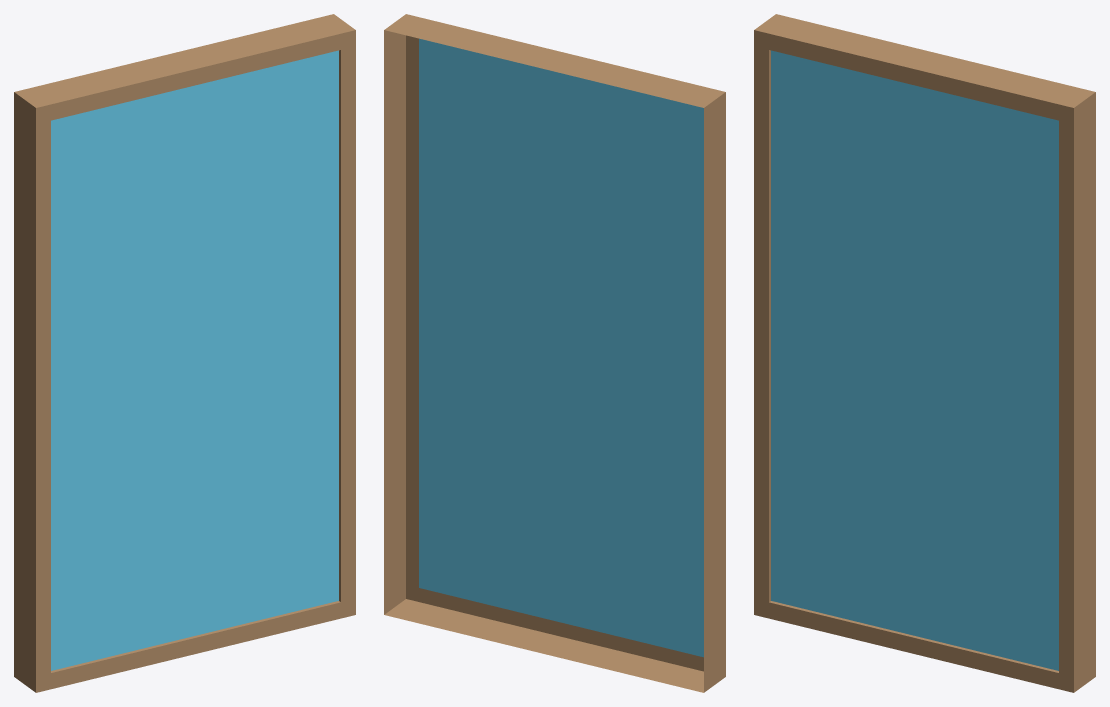
The model's file is 6 mirror.fbx.
3 renders of one model, left to right at view 1: azimuth 30°, elevation 25°; view 2: azimuth 150°, elevation 25°; view 3: azimuth 330°, elevation 25°, orthographic.
Visible parts, largest first — view 1: 5 mirror; view 2: 5 mirror; view 3: 5 mirror.
Part boxes in pixels (x1,y1,x2,y2): 5 mirror: [14, 14, 355, 692]; 5 mirror: [384, 14, 725, 692]; 5 mirror: [754, 14, 1095, 692].
Bounding box in the file's own units: 49.45 × 86.44 × 5.88.
